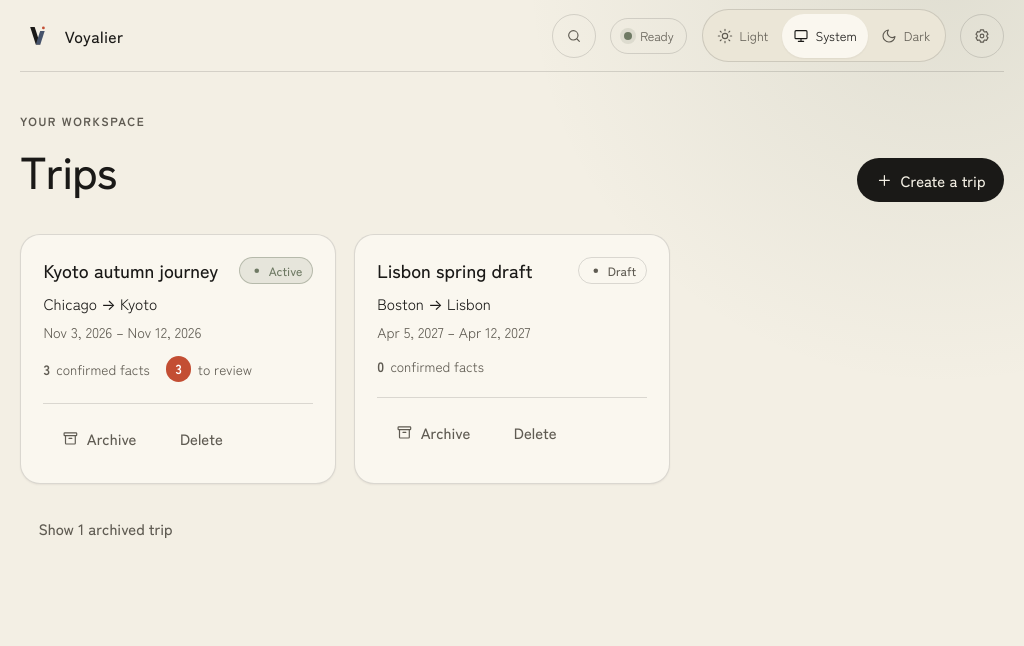
it: Recommendations › surfaces failures while saving a recommended place
What coordinates should you click on to do the following:
click the button with aria-label "Open Kyoto autumn journey"
I would click on:
 (131, 270)
Its box is [43,257,218,283].
(page scrolled)
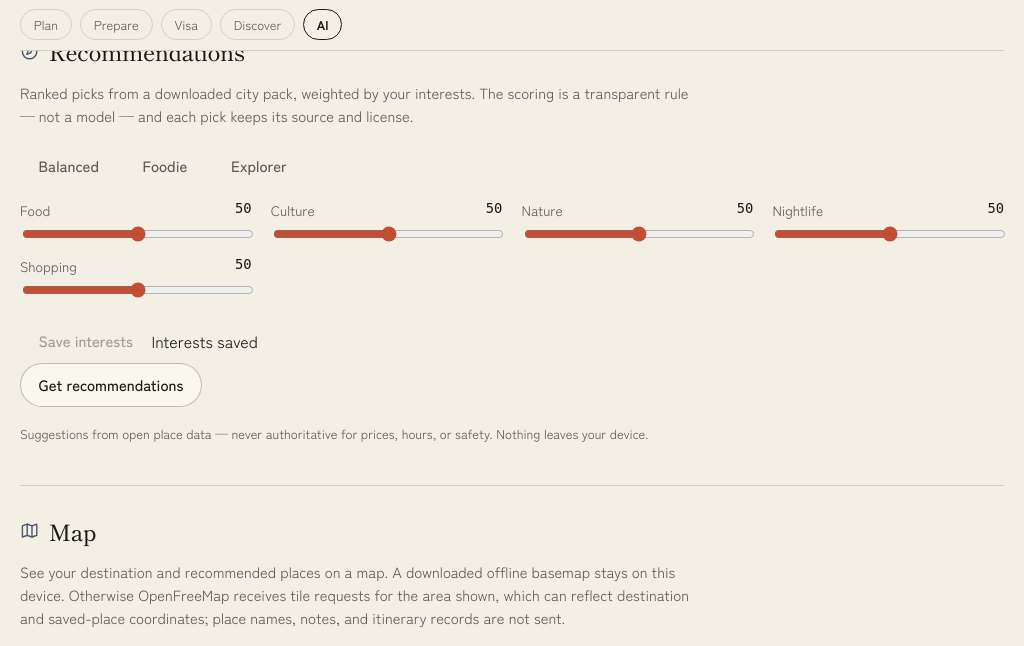
What coordinates should you click on to do the following:
click the button "Get recommendations"
I would click on:
 (111, 384)
Its box is [20,362,202,406].
(page scrolled)
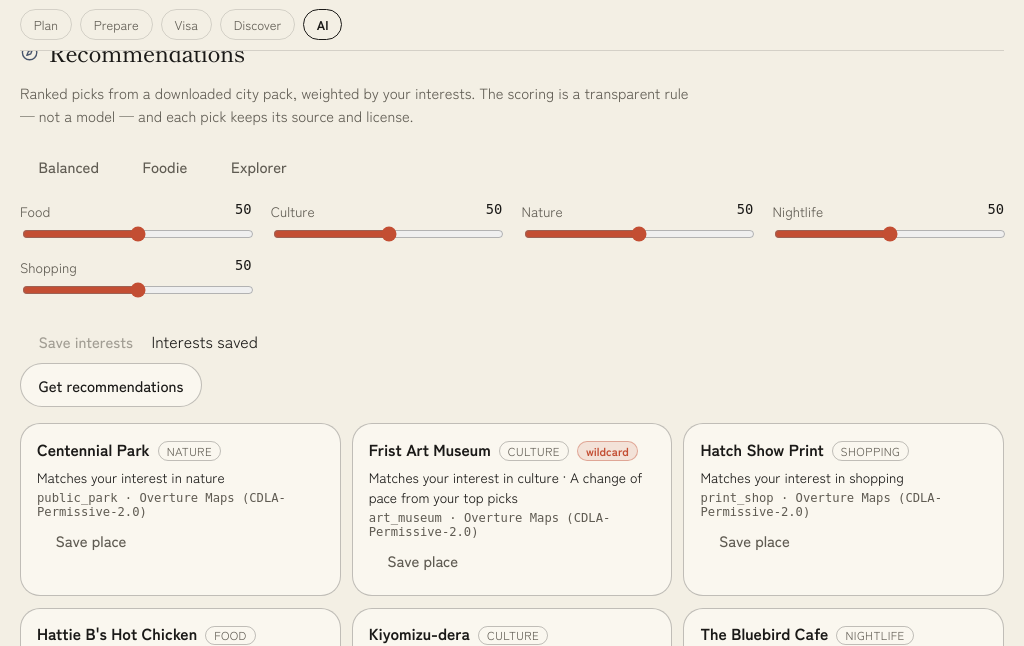
What coordinates should you click on to do the following:
click the button "Save place " below "Centennial Park"
I would click on:
 (91, 541)
Its box is [37,519,145,563].
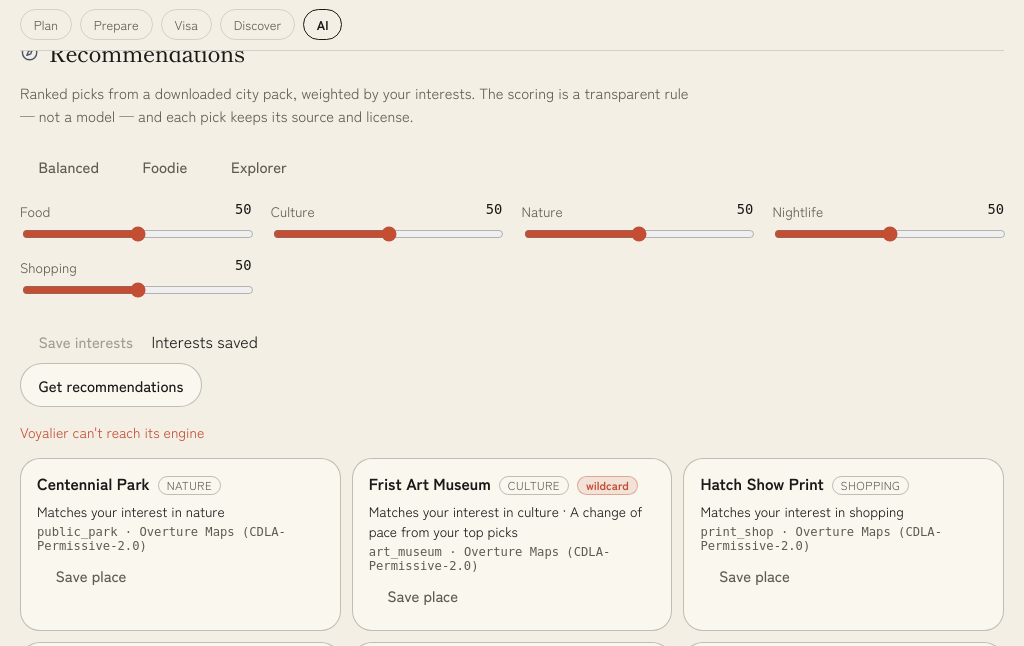
Check: the message "Voyalier can't reach its engine" is shown, box [20,422,204,442]
